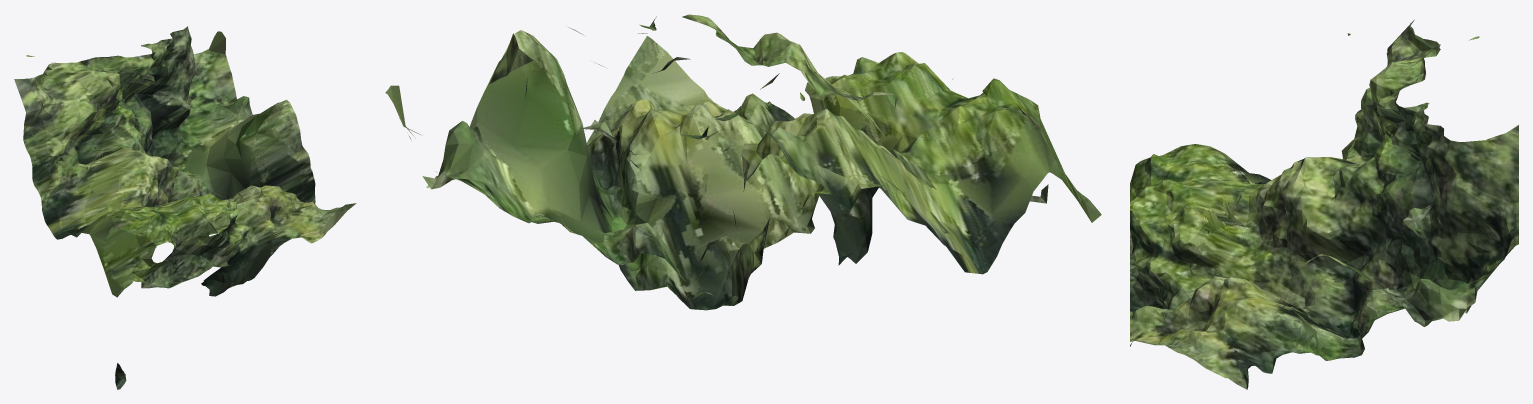
The picture shows the model from 3 angles, left to right: view 1: azimuth 30°, elevation 25°; view 2: azimuth 150°, elevation 25°; view 3: azimuth 270°, elevation 25°; orthographic projection. The views are drawn at different scales.
Size of the model in its own units: 26.11 by 24.54 by 26.11.
4 materials, 4 textured.
